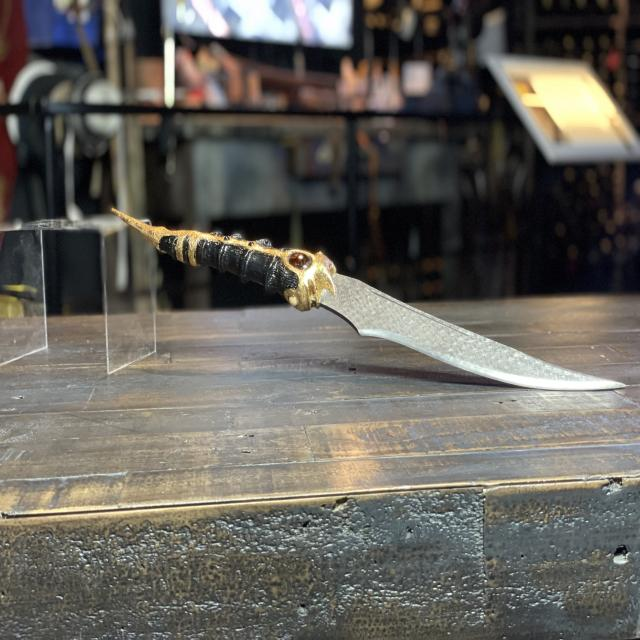Gun: (105, 190, 628, 402)
